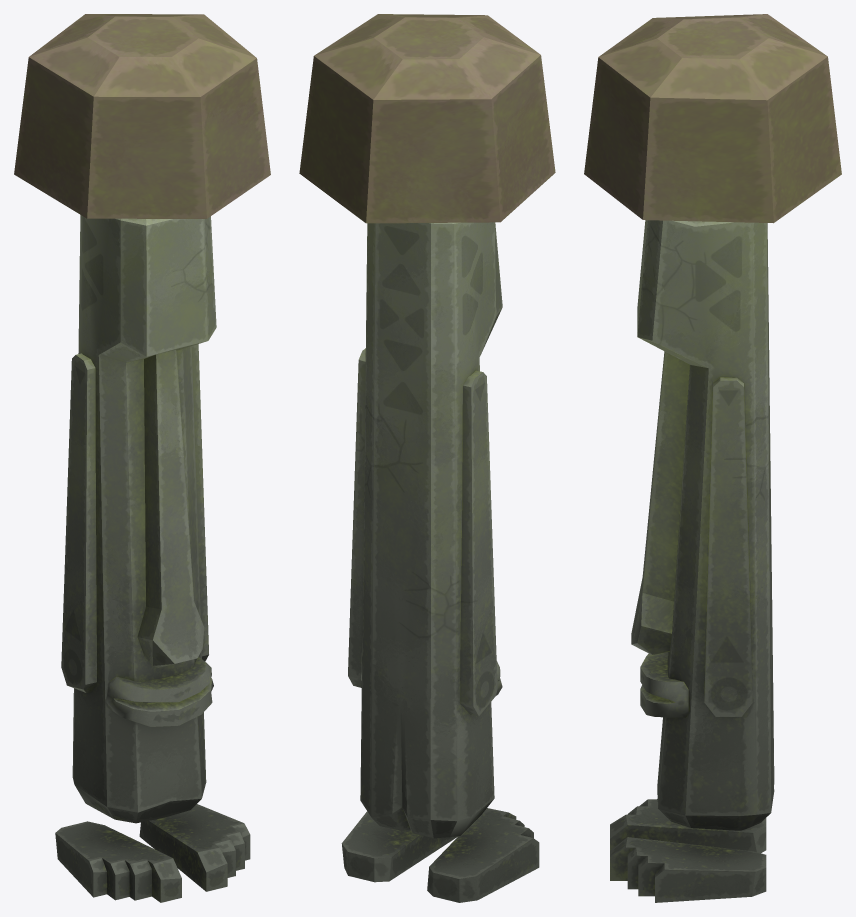
Rendered from SM_TallMoai.fbx.
3 renders of one model, left to right at view 1: azimuth 30°, elevation 25°; view 2: azimuth 150°, elevation 25°; view 3: azimuth 270°, elevation 25°, orthographic.
Parts seen in each view (by area): view 1: SM_TallMoai_Head, SM_TallMoai_RightFoot, SM_TallMoai_LeftFoot; view 2: SM_TallMoai_Head, SM_TallMoai_RightFoot, SM_TallMoai_LeftFoot; view 3: SM_TallMoai_Head, SM_TallMoai_LeftFoot, SM_TallMoai_RightFoot.
Part boxes in pixels (<box>): SM_TallMoai_Head: <box>14,14,270,823</box>; SM_TallMoai_RightFoot: <box>55,821,181,902</box>; SM_TallMoai_LeftFoot: <box>139,804,250,891</box>; SM_TallMoai_Head: <box>299,14,555,838</box>; SM_TallMoai_RightFoot: <box>427,808,539,902</box>; SM_TallMoai_LeftFoot: <box>341,811,458,882</box>; SM_TallMoai_Head: <box>584,14,841,830</box>; SM_TallMoai_LeftFoot: <box>610,837,766,902</box>; SM_TallMoai_RightFoot: <box>610,799,766,853</box>.
Size of the model in its own units: 202 by 800 by 226.
